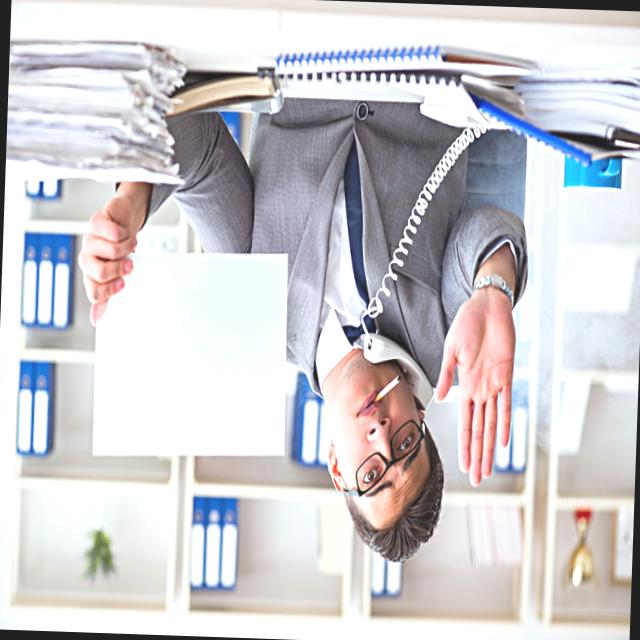cigarette: (372, 372, 401, 406)
